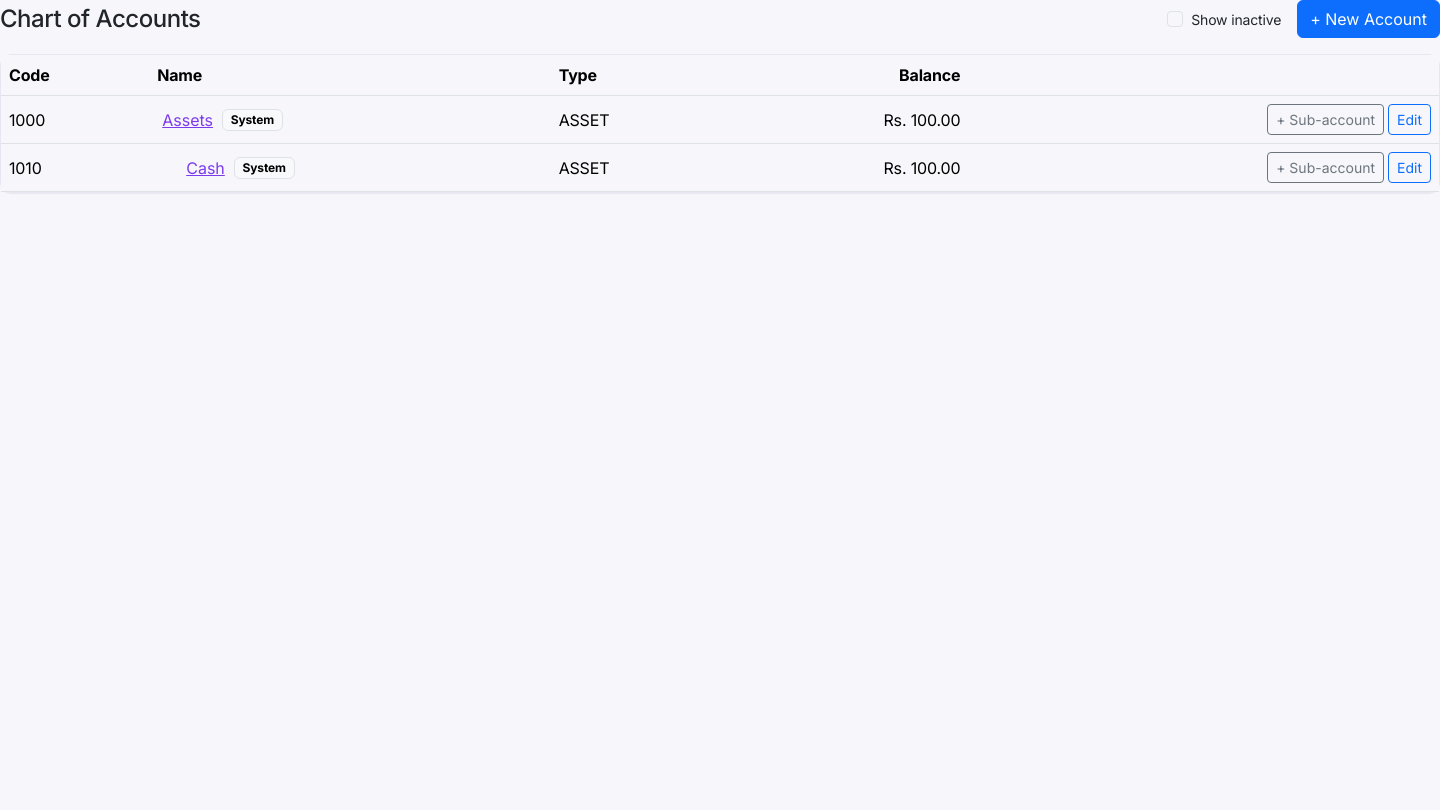
Scenario: ChartOfAccounts › creates an account and surfaces a backend error (duplicate code) in the form
Check: the button "Assets" is shown, box [161,107,214,133]
Click the button "+ New Account": (1369, 19) [1297,0,1439,38]
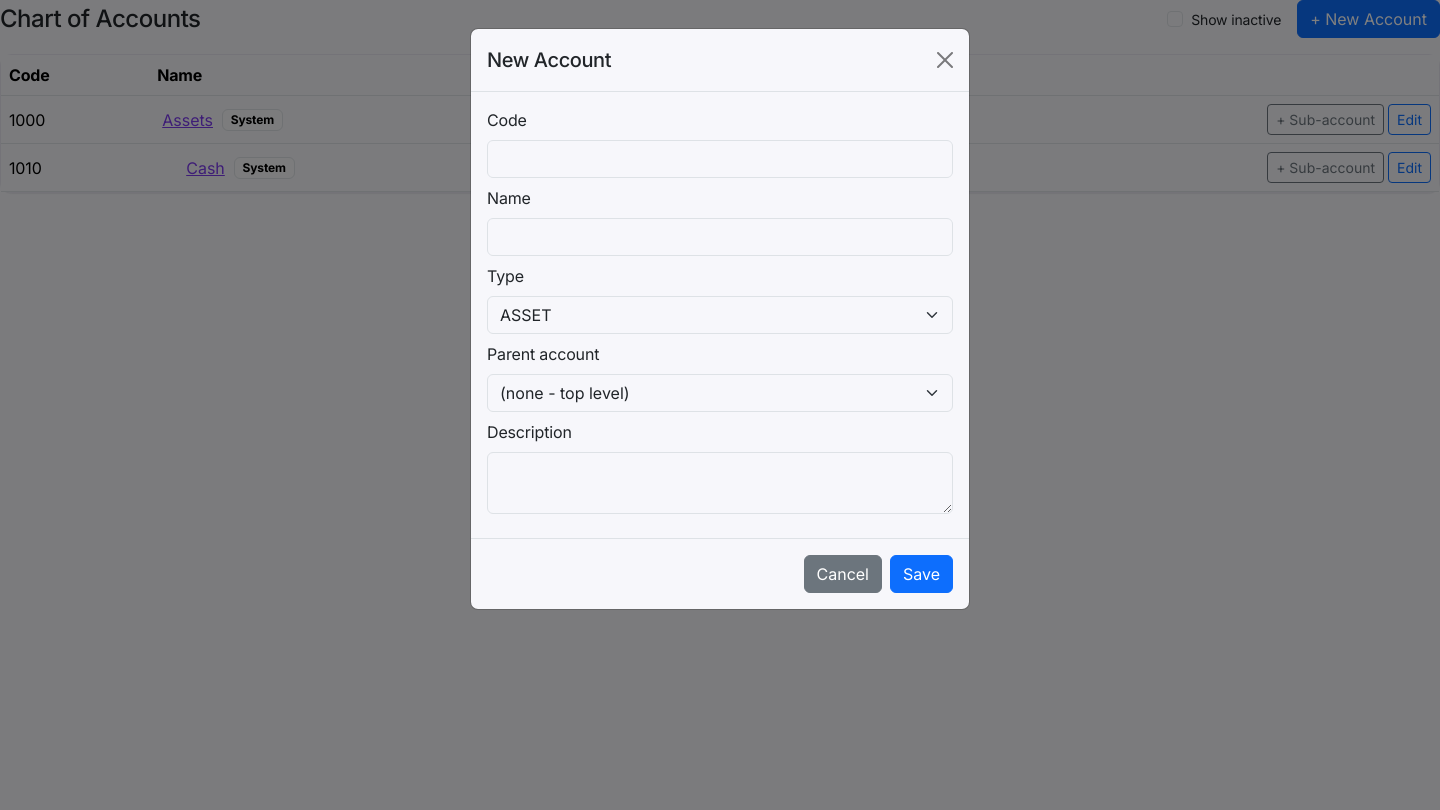
In the 1st field: (720, 159) [487,140,953,178], type "1100"
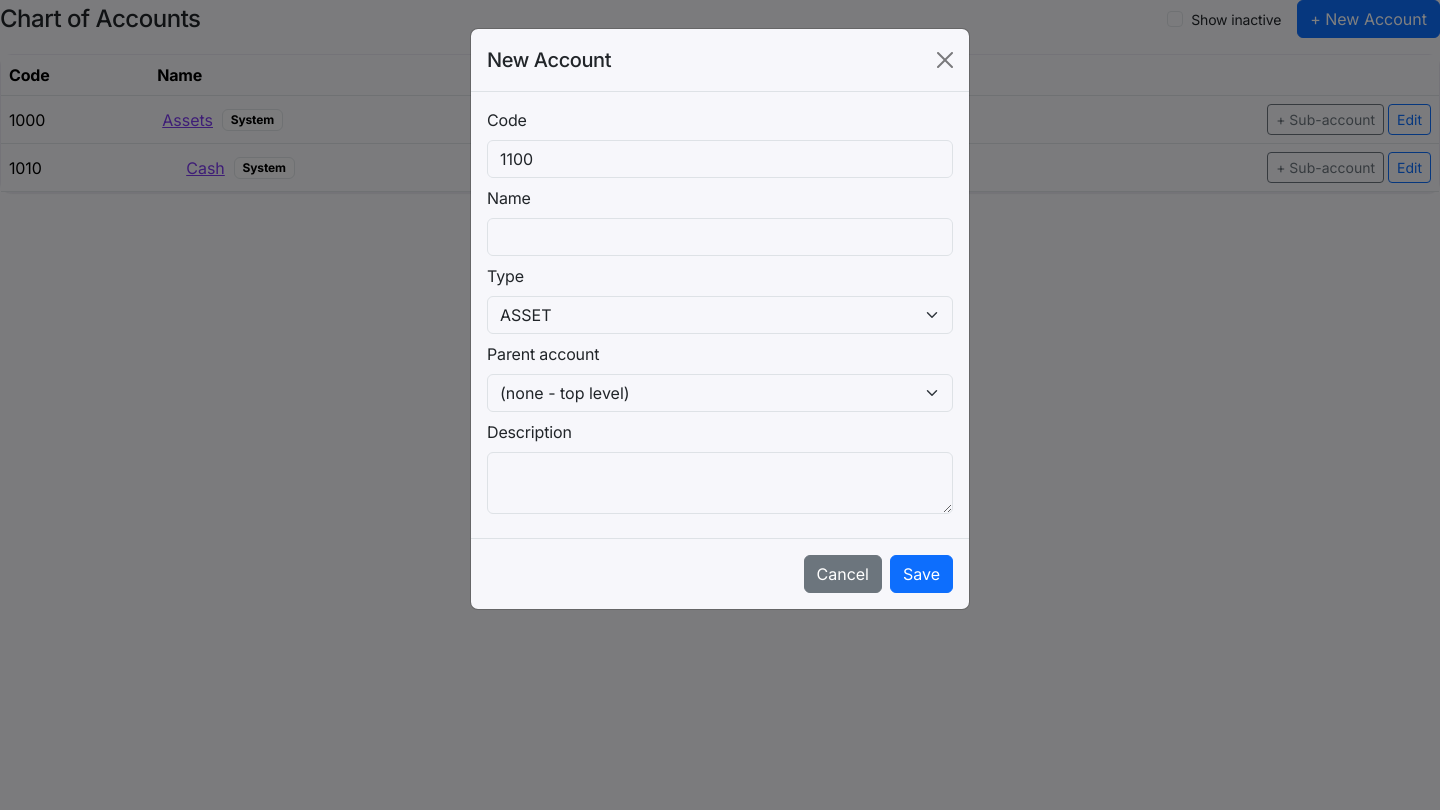
In the 2nd field: (720, 237) [487,218,953,256], type "Fixed Assets"
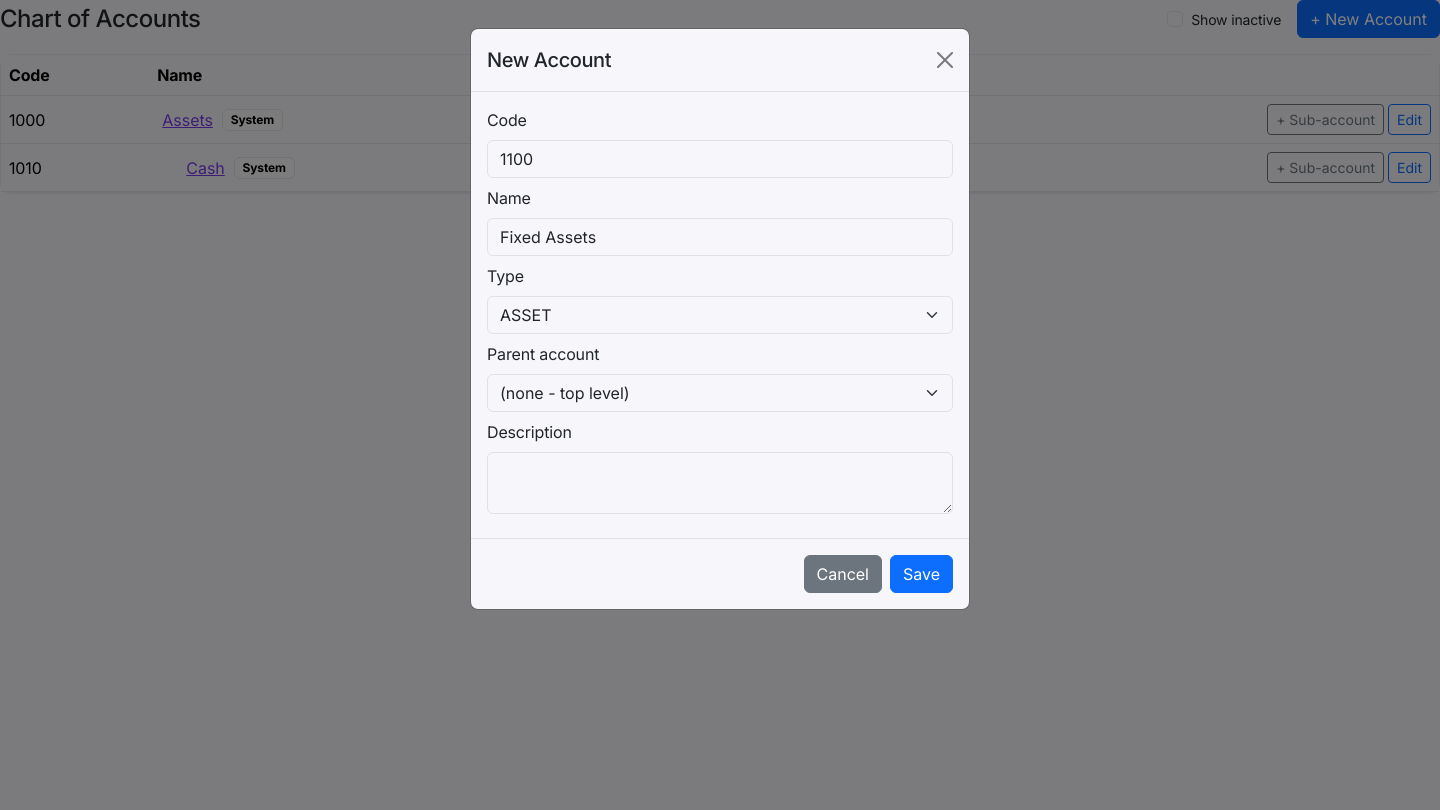
Click the button "Save": (922, 574) [890,555,953,593]
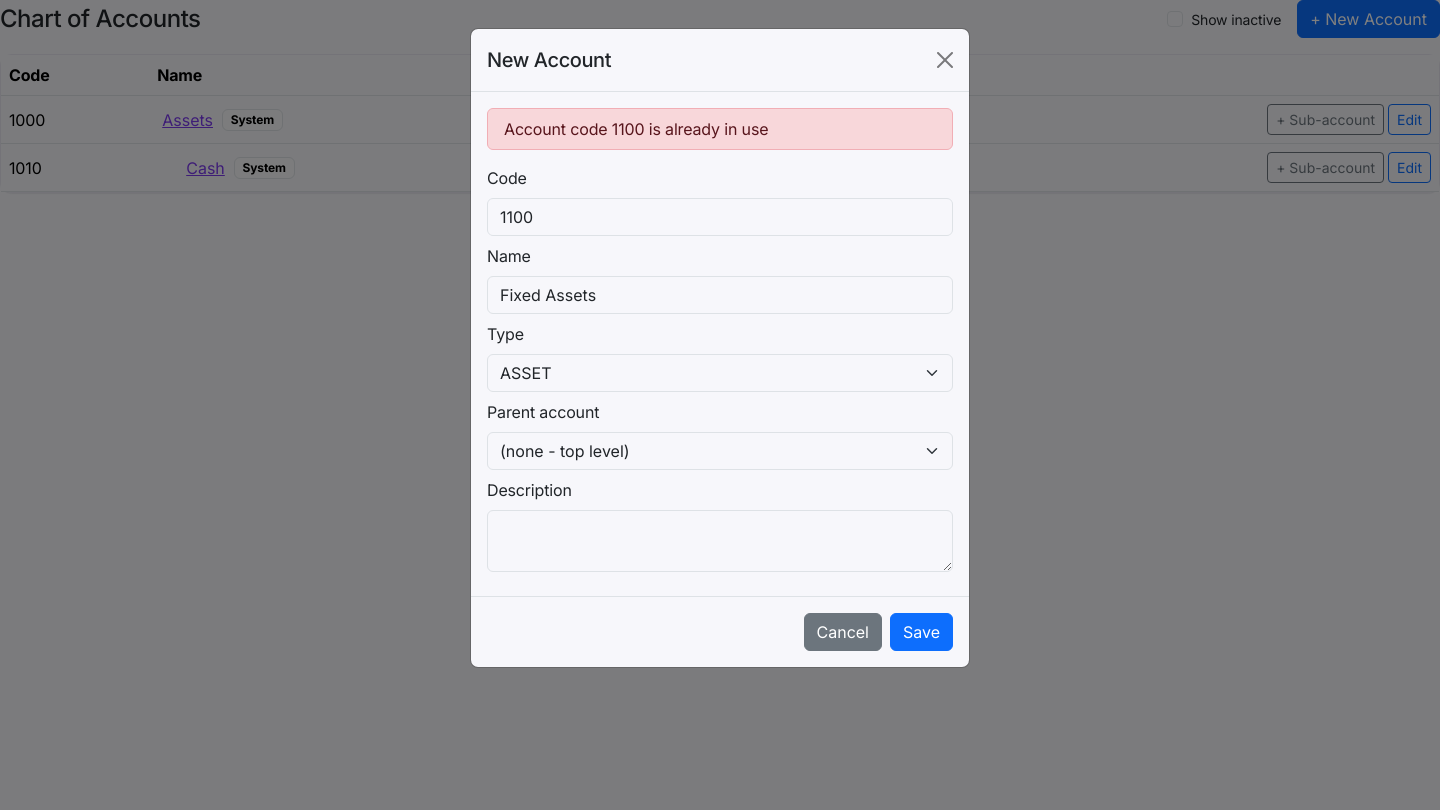
Check: the text "Account code 1100 is already in use" is shown, box [487,108,953,150]
